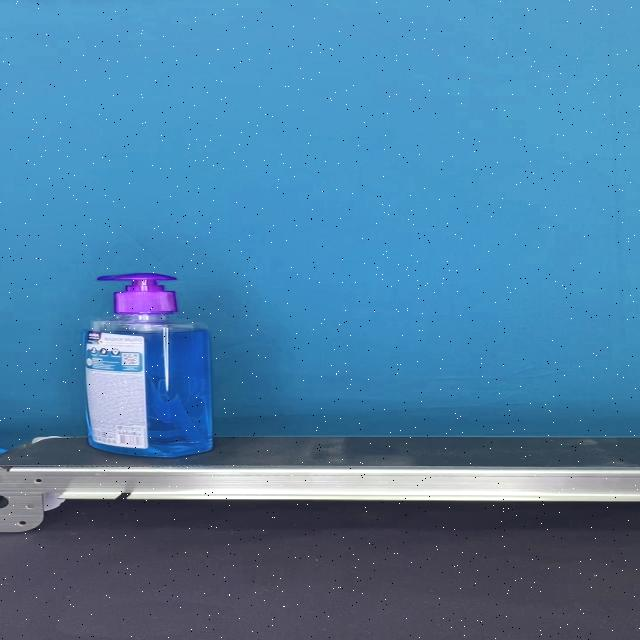Bottle: (81, 273, 213, 457)
Cap: (96, 274, 178, 315)
